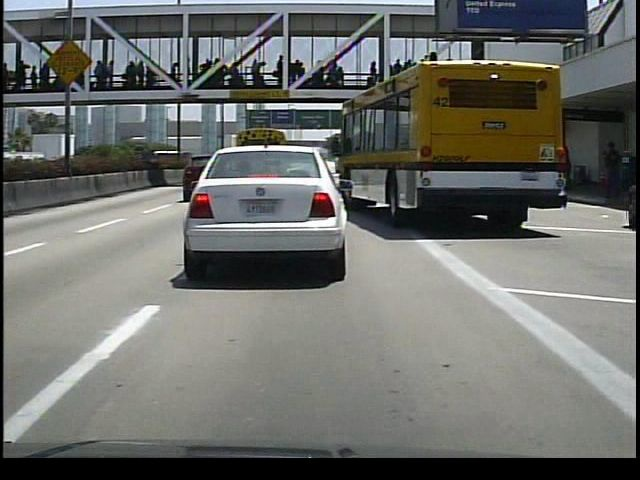person: (600, 141, 628, 206)
